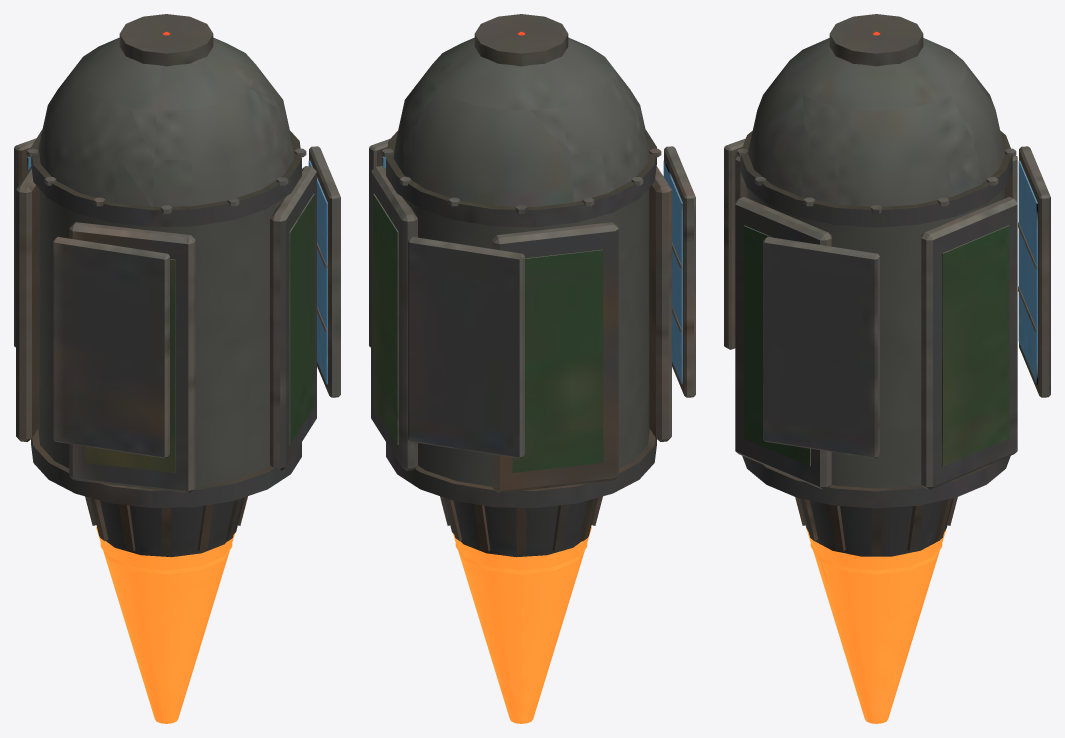
The model's file is cargo-pod.glb.
3 views of the same model, side by side, from view 1: azimuth 30°, elevation 25°; view 2: azimuth 150°, elevation 25°; view 3: azimuth 270°, elevation 25° (orthographic).
Parts seen in each view (by area): view 1: body, anim_panel.001, anim_flame, anim_panel.002, anim_panel; view 2: body, anim_panel, anim_flame, anim_panel.001, anim_panel.002; view 3: body, anim_panel.002, anim_flame, anim_panel, anim_panel.001.
Part boxes in pixels (left/top/right/bottom): body: left=16, top=14, right=316, bottom=557; anim_panel.001: left=53, top=237, right=169, bottom=458; anim_flame: left=96, top=526, right=234, bottom=723; anim_panel.002: left=308, top=146, right=340, bottom=397; anim_panel: left=14, top=138, right=36, bottom=347; body: left=371, top=14, right=671, bottom=557; anim_panel: left=408, top=237, right=524, bottom=458; anim_flame: left=453, top=526, right=591, bottom=723; anim_panel.001: left=663, top=146, right=695, bottom=397; anim_panel.002: left=369, top=139, right=389, bottom=347; body: left=735, top=14, right=1017, bottom=556; anim_panel.002: left=763, top=237, right=879, bottom=458; anim_flame: left=806, top=528, right=946, bottom=723; anim_panel: left=1018, top=146, right=1050, bottom=397; anim_panel.001: left=724, top=138, right=745, bottom=349.
Bounding box in the file's own units: 1.46 × 3.23 × 1.39.
3 materials, 3 textured.
